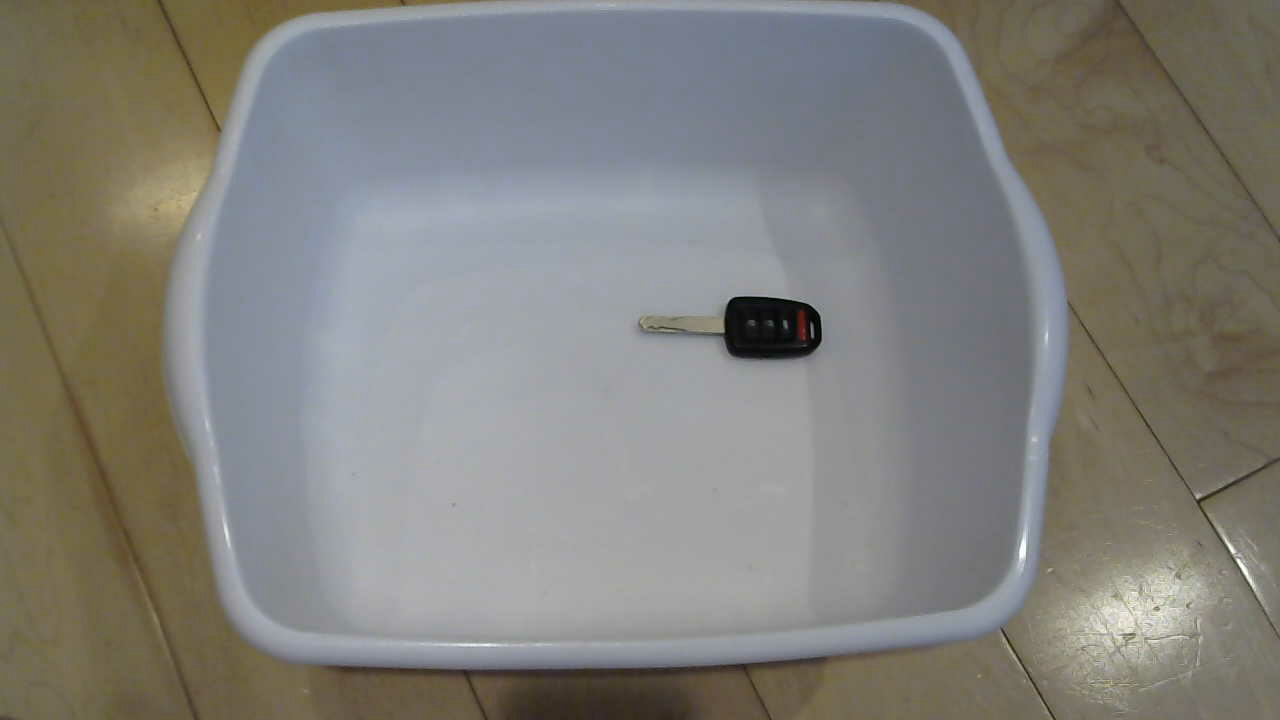key: (625, 288, 840, 377)
